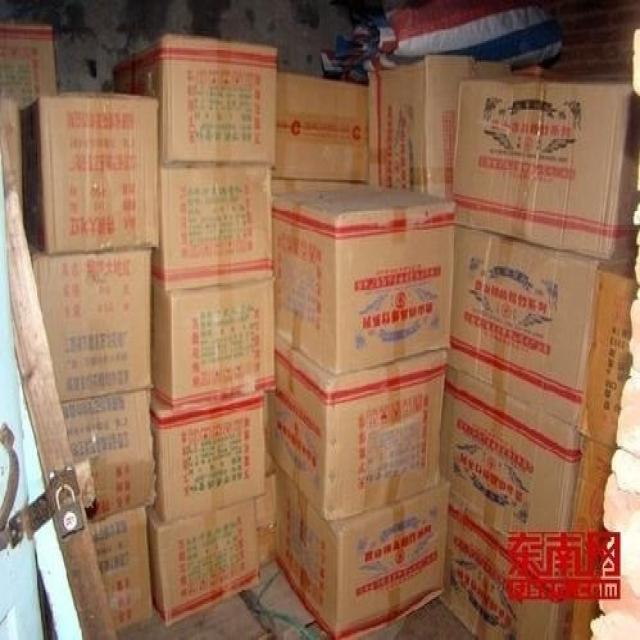box: (454, 72, 640, 263), (273, 184, 458, 376), (267, 335, 448, 523), (446, 226, 611, 427), (274, 460, 451, 640), (441, 364, 582, 544), (19, 89, 160, 254), (110, 34, 280, 170), (369, 57, 512, 202), (28, 244, 154, 403), (440, 494, 567, 640), (151, 278, 277, 412), (153, 163, 273, 292), (145, 498, 260, 628), (150, 395, 267, 522), (62, 389, 156, 527), (577, 261, 639, 451), (269, 75, 371, 180), (87, 506, 154, 635), (0, 22, 58, 112), (272, 178, 377, 197), (255, 475, 276, 566)
